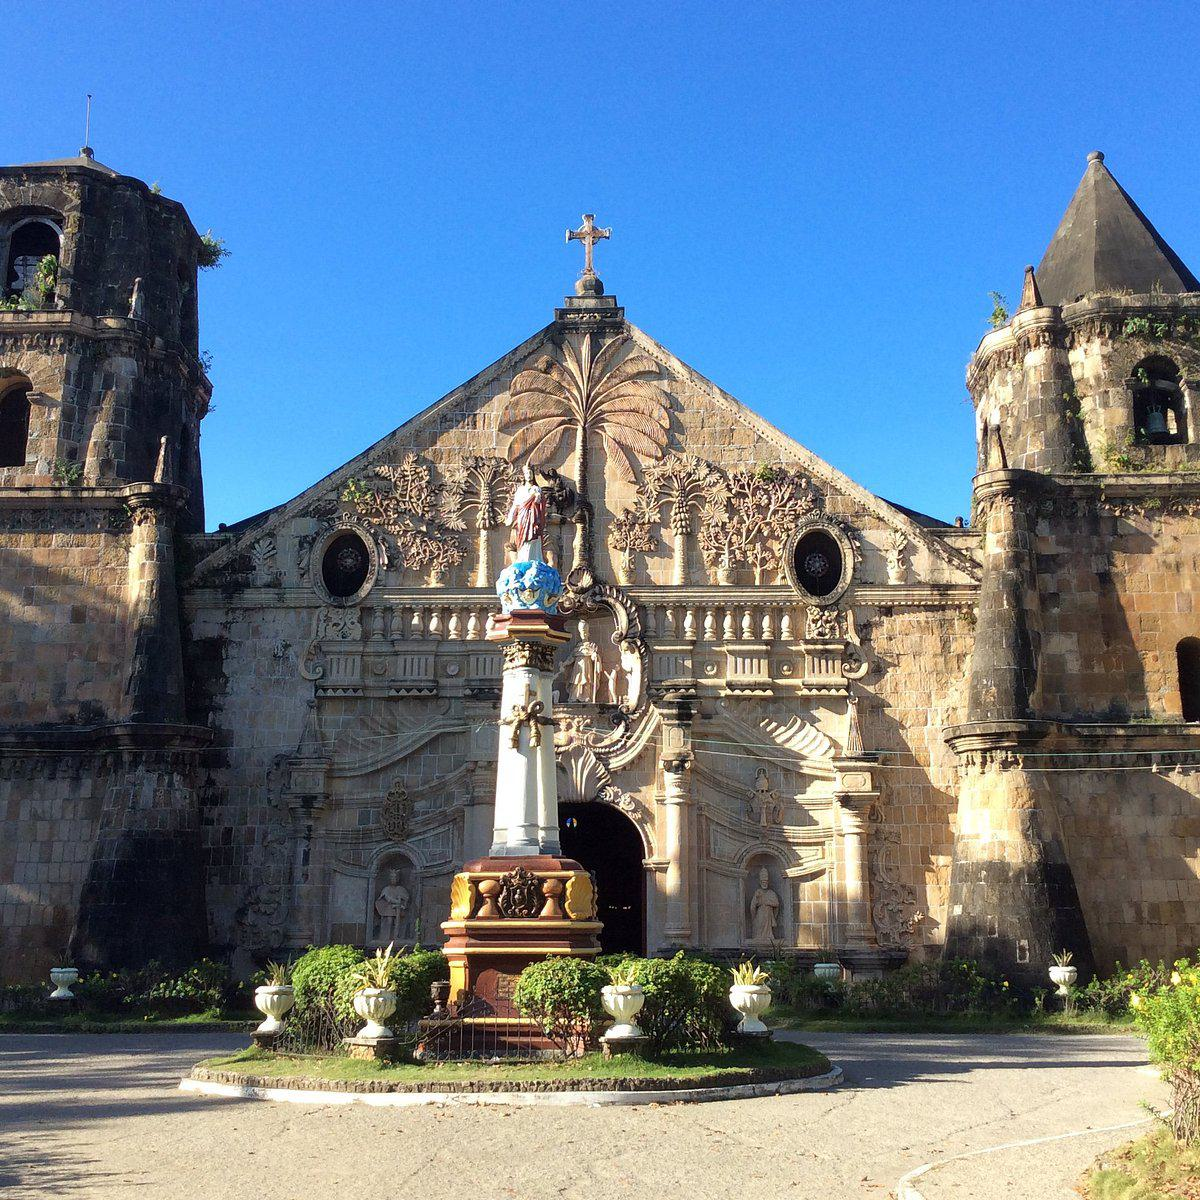Environmental Damage: (3, 251, 68, 316), (1095, 308, 1179, 349), (42, 447, 105, 493), (191, 225, 229, 273)
Miagao Church: (3, 86, 1196, 1003)
